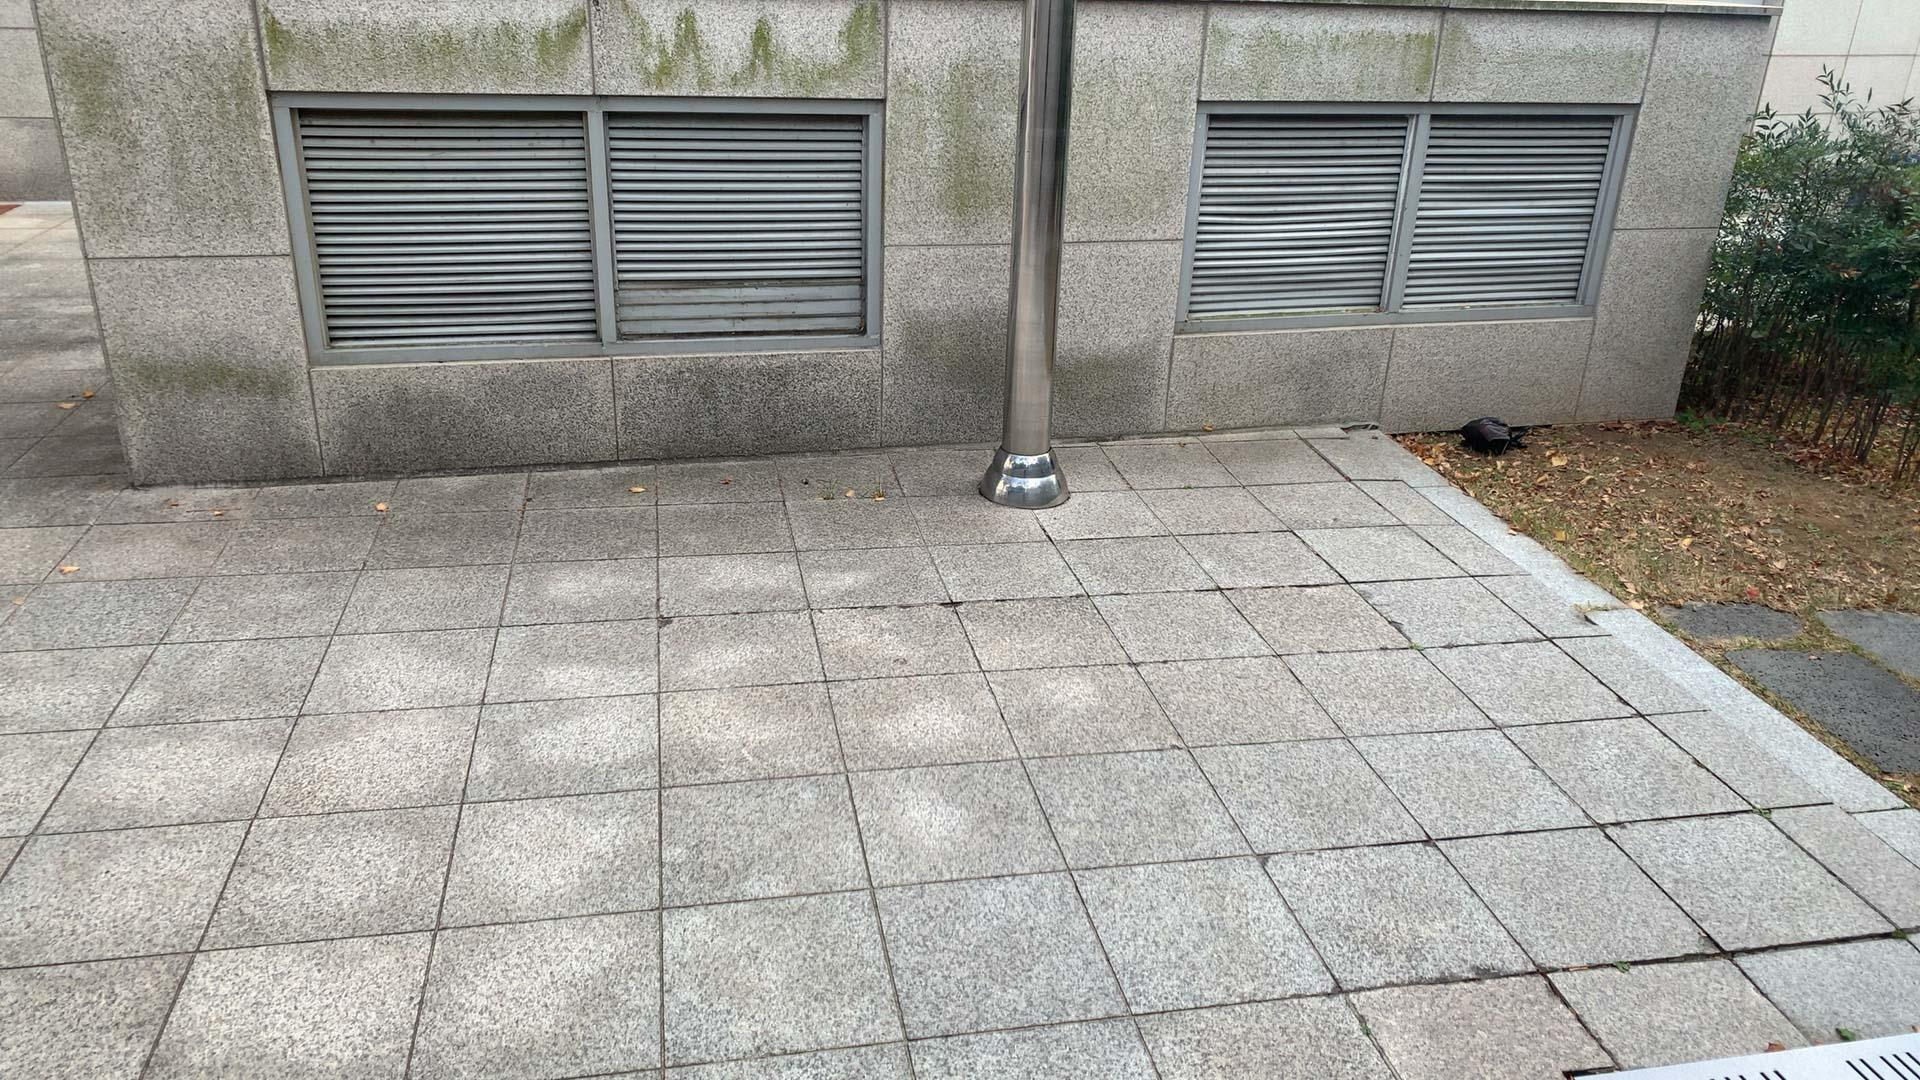black_bag: (1456, 411, 1540, 460)
